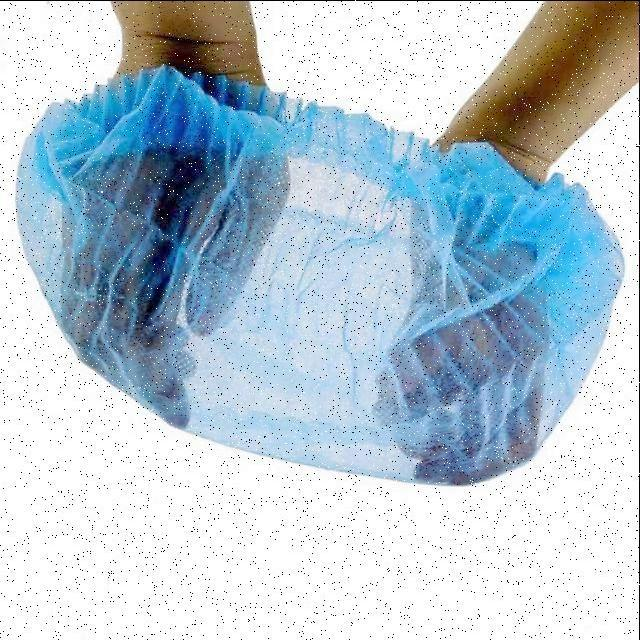gloves: (28, 93, 624, 511)
